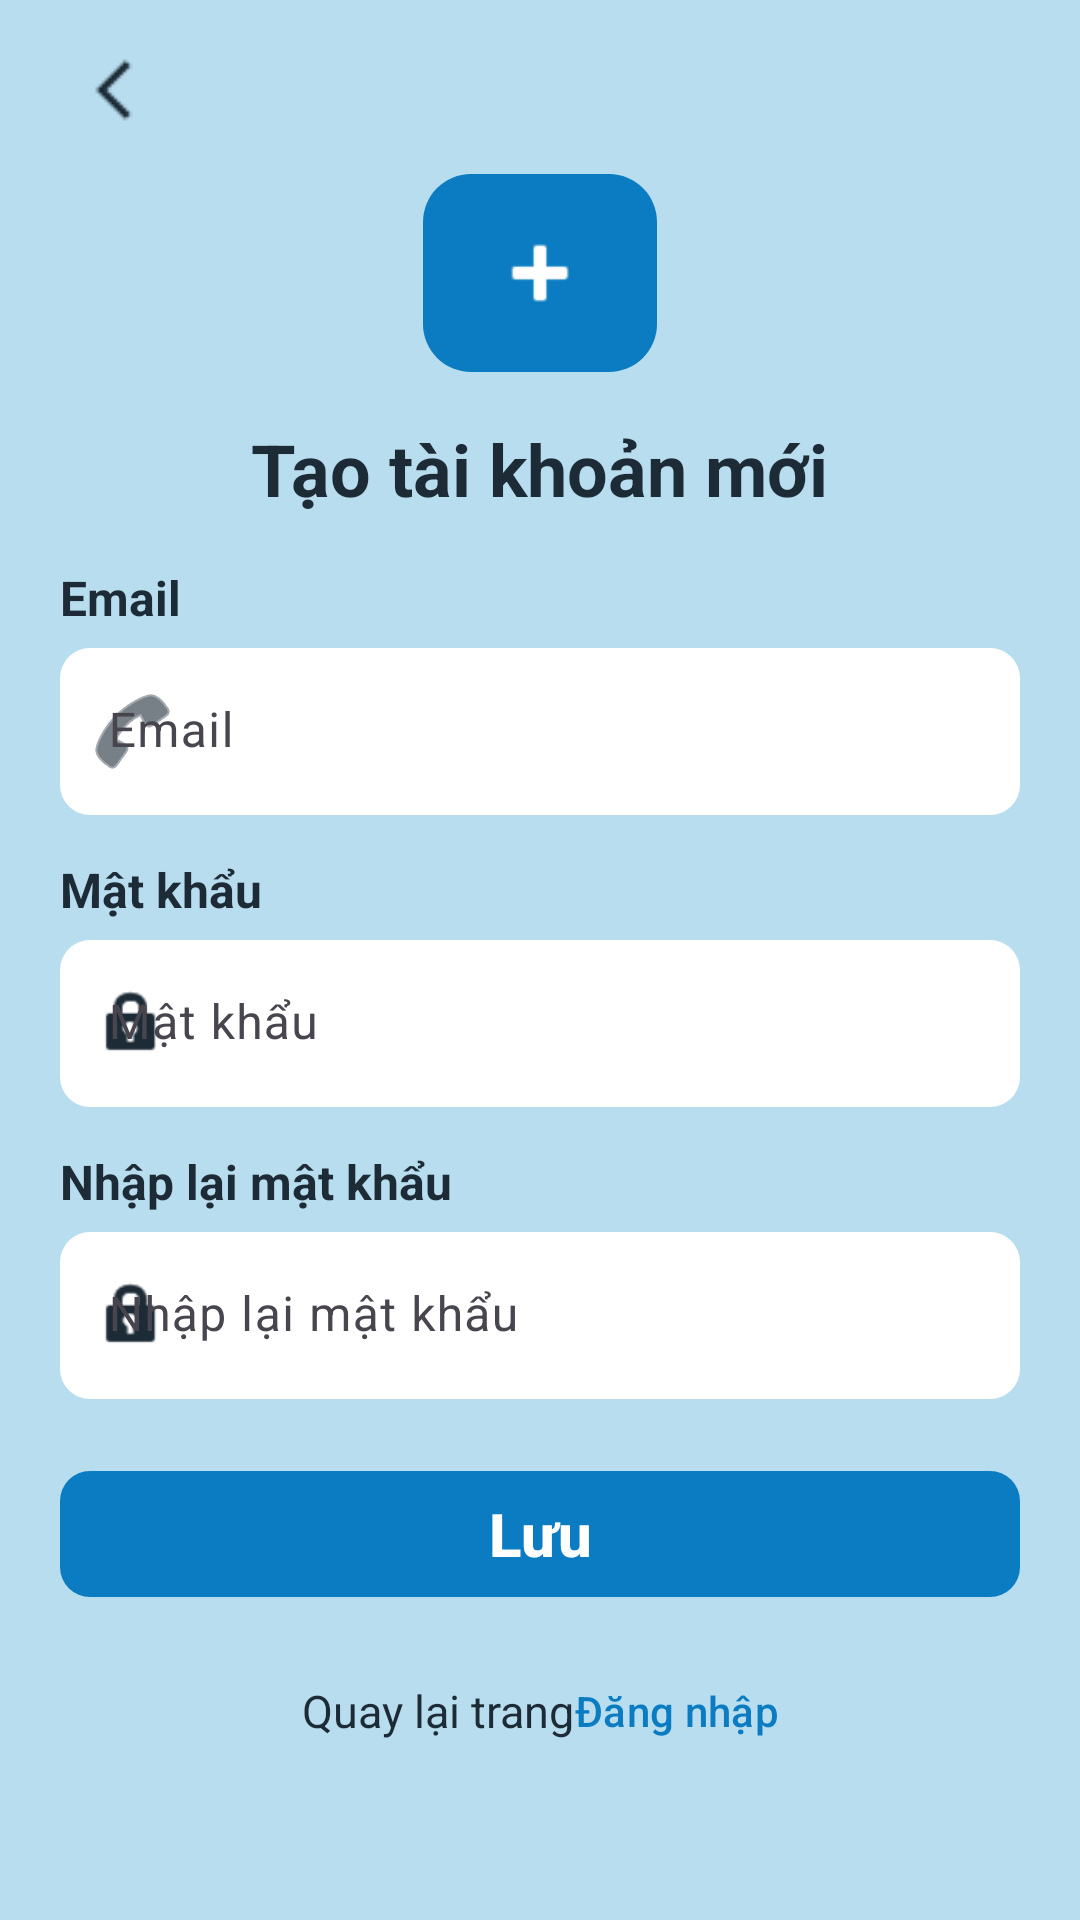

Named icons in this screenshot (1080px x 1920px) and their centers, (x=x, y=y):
add: (x=540, y=273)
